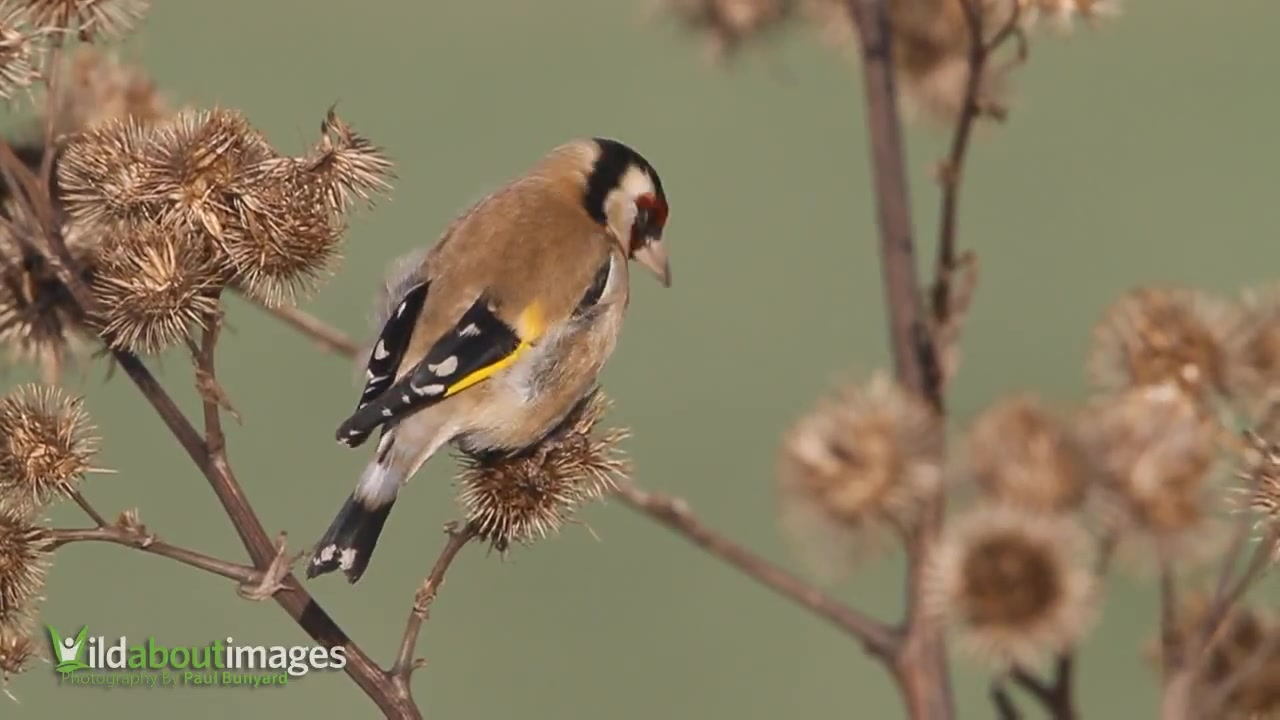bird: (308, 136, 674, 584)
